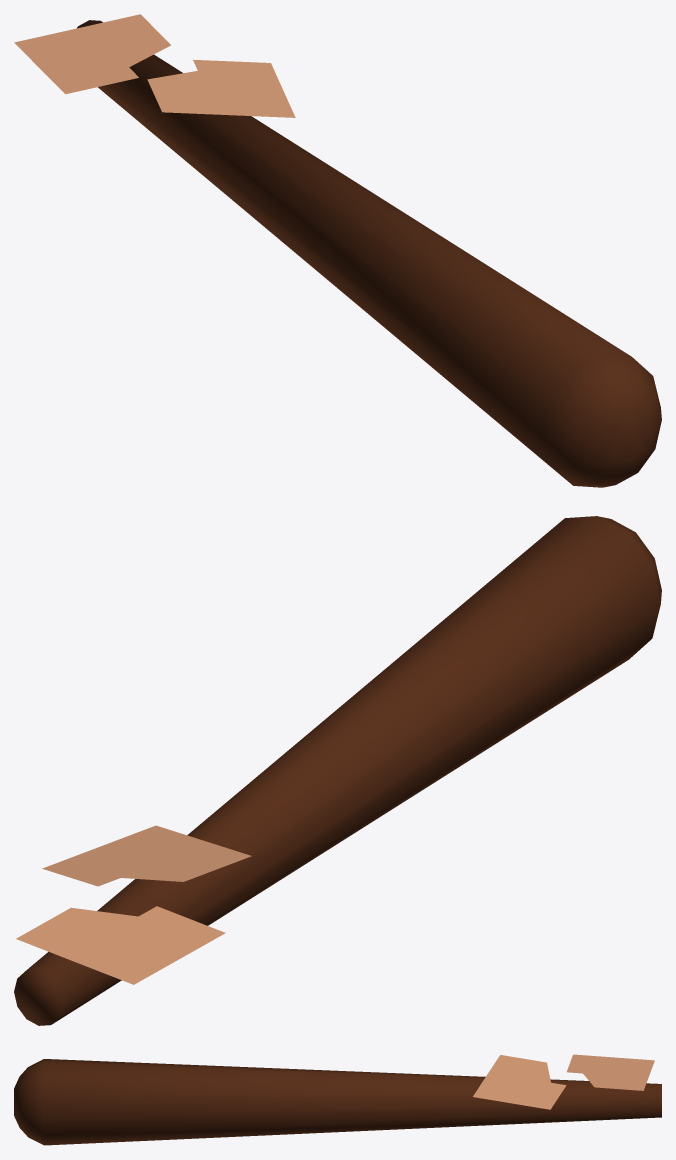
The model's file is Palica (2).fbx.
3 views of the same model, one above another, from view 1: azimuth 30°, elevation 25°; view 2: azimuth 150°, elevation 25°; view 3: azimuth 270°, elevation 25° (orthographic). The views are drawn at different scales.
Visible parts, largest first — view 1: Palica; view 2: Palica; view 3: Palica.
Boxes of the visible parts, bbox=[...] form: Palica: bbox=[14, 14, 661, 487]; Palica: bbox=[14, 516, 661, 1025]; Palica: bbox=[14, 1054, 661, 1145].
Bounding box in the file's own units: 11.75 × 7.98 × 58.48.
